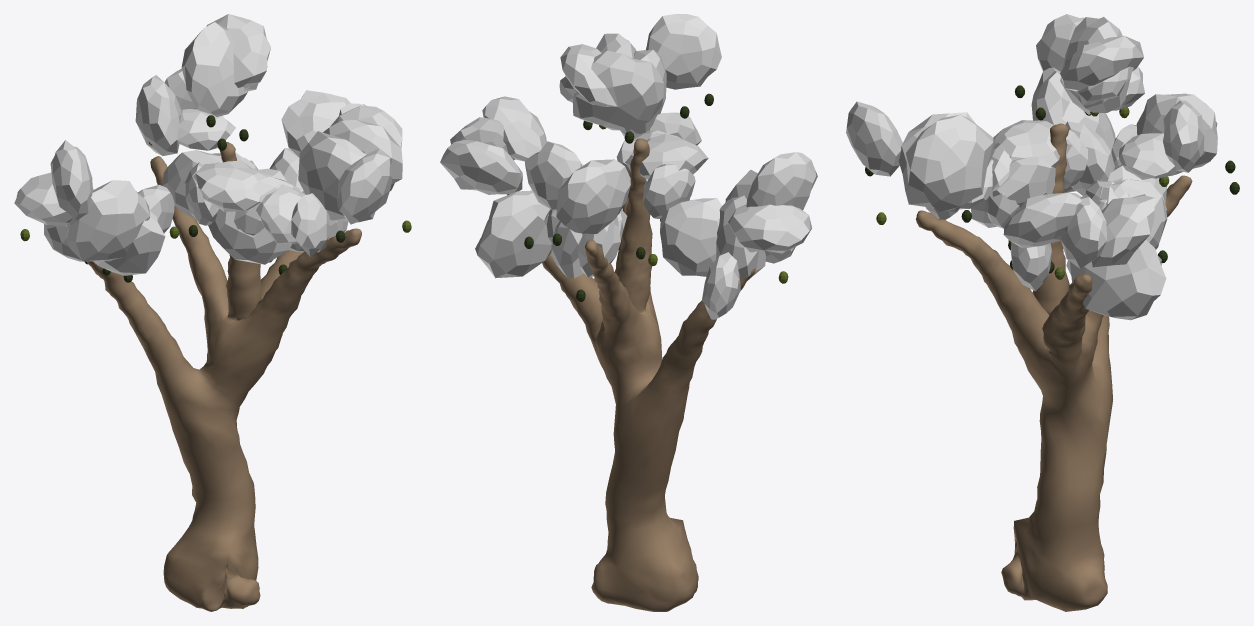
File: obj_kit_olive.glb
3 renders of one model, left to right at view 1: azimuth 30°, elevation 25°; view 2: azimuth 150°, elevation 25°; view 3: azimuth 270°, elevation 25°, orthographic. The views are drawn at different scales.
Visible parts, largest first — view 1: trunk, Icosphere.001, Icosphere.012, Icosphere.008, Icosphere.006, Icosphere.011, Icosphere.027, Icosphere.023, Icosphere.004, Icosphere.014, Icosphere.002, Icosphere.007 (+13 smaller); view 2: trunk, Icosphere.020, Icosphere.012, Icosphere.011, Icosphere.006, Icosphere.015, Icosphere.004, Icosphere, Icosphere.002, Icosphere.005, Icosphere.010, Icosphere.029 (+11 smaller); view 3: trunk, Icosphere.007, Icosphere.020, Icosphere.005, Icosphere.004, Icosphere.006, Icosphere.014, Icosphere.010, Icosphere.023, Icosphere.003, Icosphere.011, Icosphere.027 (+15 smaller).
Part boxes in pixels (x1,y1,x2,y2): trunk: (86, 142, 361, 611); Icosphere.001: (66, 180, 149, 261); Icosphere.012: (181, 22, 247, 116); Icosphere.008: (298, 131, 375, 222); Icosphere.006: (337, 148, 392, 224); Icosphere.011: (135, 75, 181, 155); Icosphere.027: (193, 160, 266, 211); Icosphere.023: (208, 168, 304, 264); Icosphere.004: (281, 90, 350, 157); Icosphere.014: (206, 14, 270, 87); Icosphere.002: (50, 140, 92, 220); Icosphere.007: (323, 120, 402, 190); trunk: (542, 138, 755, 611); Icosphere.020: (475, 190, 551, 278); Icosphere.012: (572, 50, 663, 131); Icosphere.011: (556, 159, 630, 233); Icosphere.006: (646, 14, 721, 89); Icosphere.015: (660, 198, 721, 276); Icosphere.004: (440, 139, 522, 194); Icosphere: (728, 204, 811, 253); Icosphere.002: (746, 152, 817, 210); Icosphere.005: (482, 96, 546, 161); Icosphere.010: (525, 141, 581, 209); Icosphere.029: (642, 164, 695, 218); trunk: (915, 123, 1192, 611); Icosphere.007: (905, 114, 994, 211); Icosphere.020: (1066, 240, 1166, 320); Icosphere.005: (1003, 192, 1081, 248); Icosphere.004: (1091, 194, 1154, 267); Icosphere.006: (846, 101, 902, 176); Icosphere.014: (1060, 35, 1143, 91); Icosphere.010: (1163, 100, 1204, 172); Icosphere.023: (971, 157, 1055, 227); Icosphere.003: (1060, 194, 1107, 268); Icosphere.011: (1136, 93, 1217, 174); Icosphere.027: (993, 120, 1072, 167).
Size of the model in its own units: 1.66 by 2.48 by 1.51.
